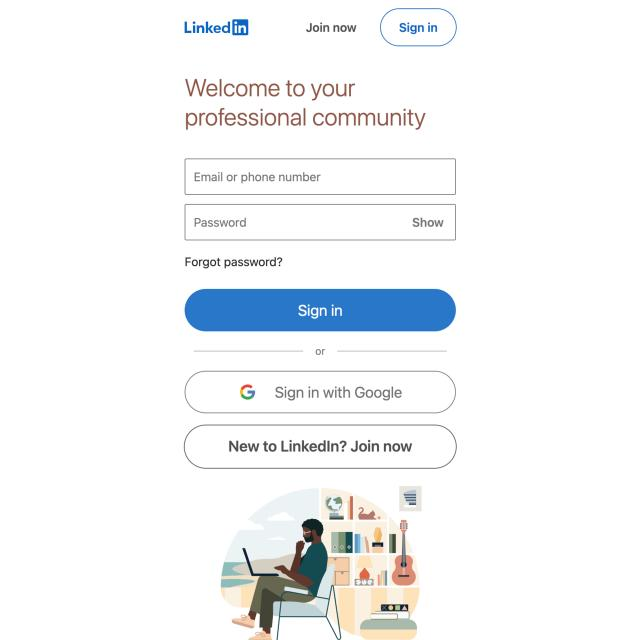input: (185, 157, 458, 196), (184, 205, 456, 242)
logo: (182, 17, 251, 38)
